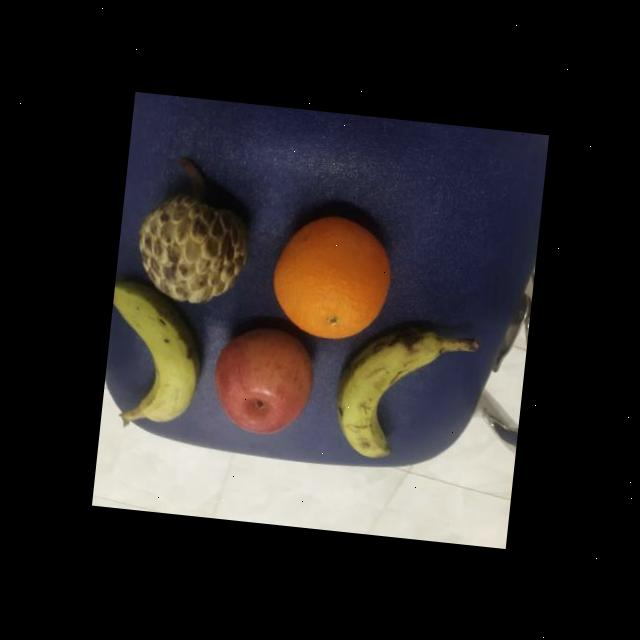Sakya fruit: (130, 189, 254, 313)
apple: (205, 324, 321, 441)
banana: (328, 319, 454, 468), (100, 277, 212, 430)
orange: (263, 208, 398, 344)
